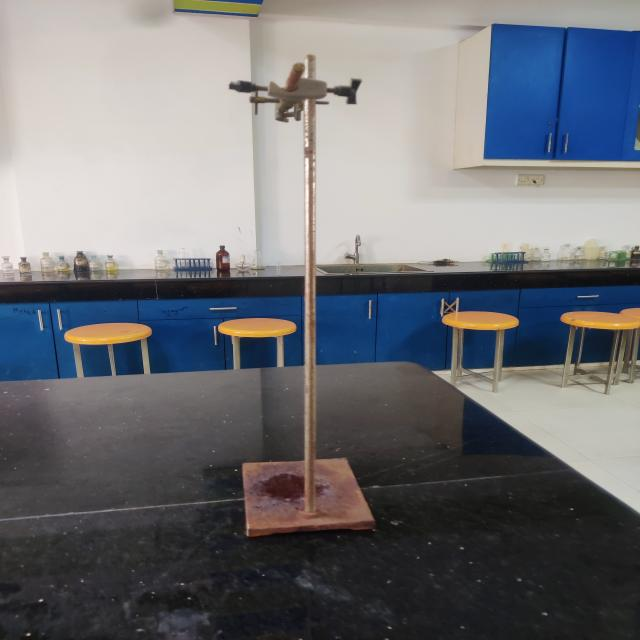Burette_Stands: (197, 28, 418, 562)
